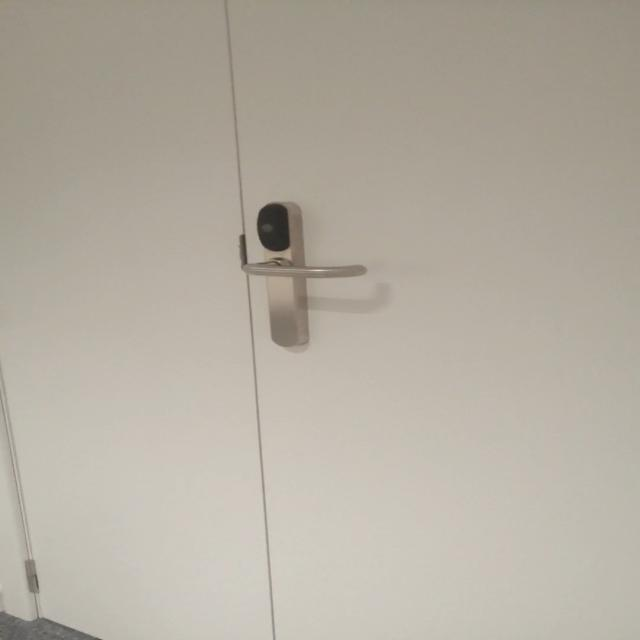door_handle: (231, 257, 373, 286)
